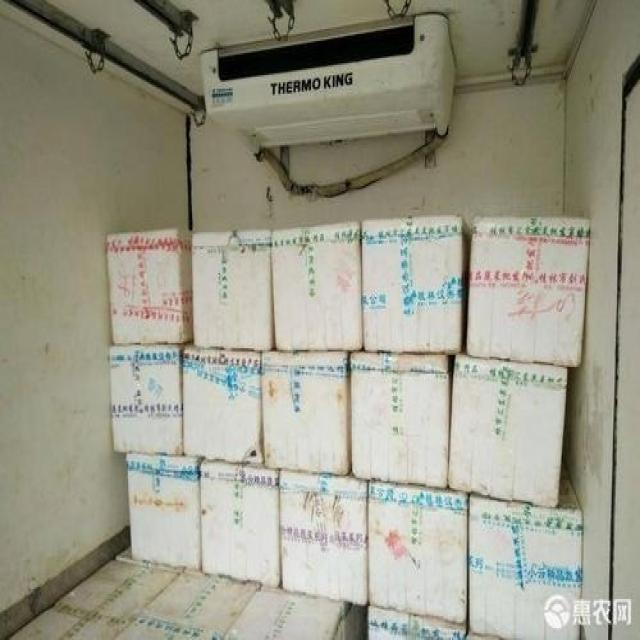box: (469, 460, 582, 638), (449, 349, 568, 508), (466, 218, 591, 368), (361, 216, 475, 350), (367, 478, 468, 624), (5, 557, 182, 638), (350, 352, 450, 484), (279, 466, 368, 604), (270, 221, 361, 351), (197, 455, 279, 585), (262, 350, 349, 471), (193, 230, 277, 350), (107, 229, 193, 345), (118, 570, 262, 638), (180, 344, 262, 460), (126, 451, 202, 570), (112, 345, 183, 450), (220, 585, 356, 638), (367, 604, 467, 637), (466, 625, 509, 638)
